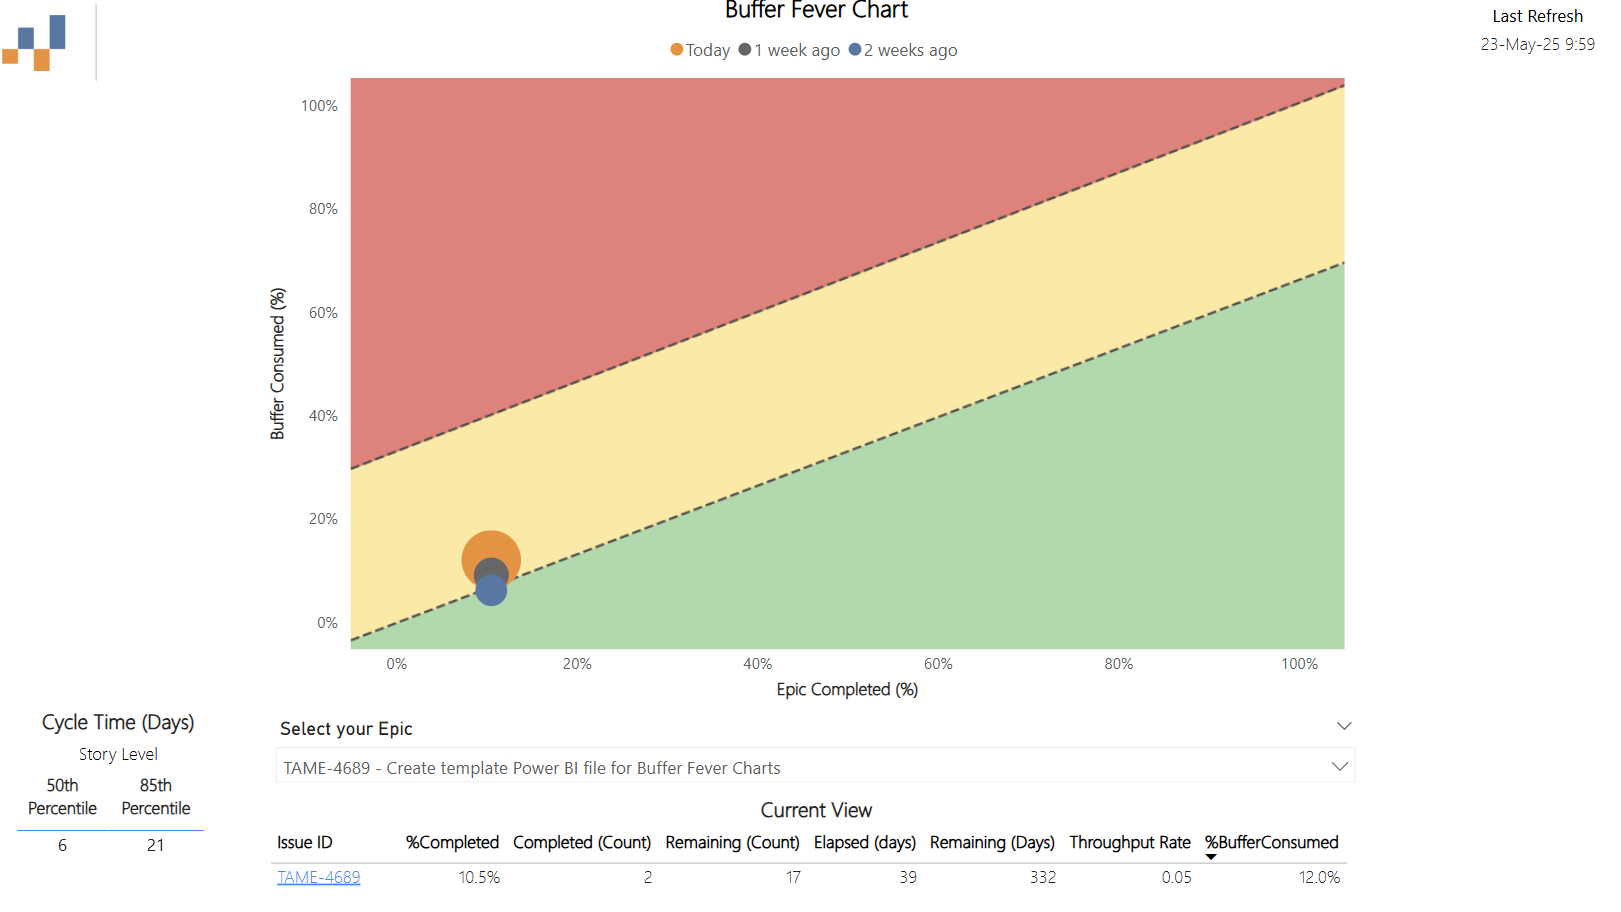

The dashboard page shown, as its layout file describes it:
{"tool":"powerbi","page":{"name":"Specific Epic - Historical View","canvas":[1280,720],"ordinal":1},"visuals":[{"type":"image","box":[1.2,0,65.8,80.1],"z":0},{"type":"basicShape","box":[65.8,0,32.3,80.1],"z":1000},{"type":"card","title":"Last Refresh","fields":{"Values":["Min(Data Refresh.DateTime)"]},"box":[1119.3,9.4,160.3,48.7],"z":2000},{"type":"scatterChart","title":"Buffer Fever Chart","fields":{"X":["EpicsMerged.%Completed Snapshot"],"Category":["EpicsMerged.WorkItemId"],"Y":["EpicsMerged.BufferConsumedPct Snapshot"],"Size":["SnapshotOffsets.DotSize"],"Series":["SnapshotOffsets.Label"]},"box":[211.6,0,857.8,554.1],"z":3000},{"type":"tableEx","title":"Current View","fields":{"Values":["EpicsMerged.WorkItemId","EpicsMerged.%Completed (Measure)","EpicsMerged.Cumulative Completed (Per Epic)","EpicsMerged.RemainingItems","EpicsMerged.ElapsedTime (Per Epic)","EpicsMerged.DaysRemaining","EpicsMerged.ThroughputRate","WorkItems History.BufferConsumedPct"]},"box":[211.1,622.5,857.9,98.2],"z":4000},{"type":"tableEx","title":"Cycle Time (Days)","fields":{"Values":["WorkItems History.CT50th","WorkItems History.CT85th"]},"box":[15.1,554.4,168.5,136],"z":5000},{"type":"slicer","fields":{"Values":["EpicsMerged.Title&ID"]},"box":[212,557.3,856.9,65.2],"z":6000}]}

Visuals, with their boxes in screenshot pixels (x1, y1, x2, y2), scaled from the page's 1280x720 canvas onto the 1621x912 screenshot:
image: Rect(2, 0, 85, 101)
basicShape: Rect(83, 0, 124, 101)
"Last Refresh" card: Rect(1417, 12, 1620, 74)
"Buffer Fever Chart" scatterChart: Rect(268, 0, 1354, 702)
"Current View" tableEx: Rect(267, 788, 1354, 911)
"Cycle Time (Days)" tableEx: Rect(19, 702, 233, 875)
slicer - EpicsMerged.Title&ID: Rect(268, 706, 1354, 788)
